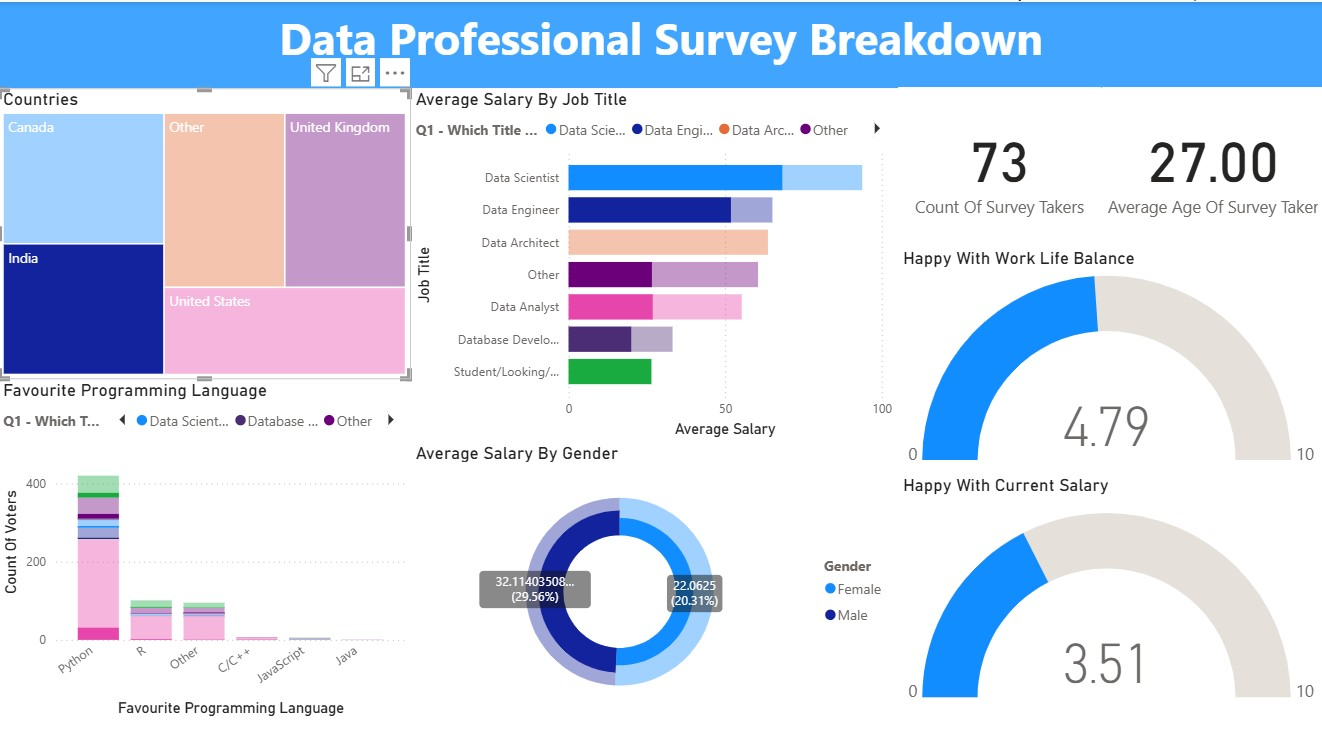

Layout of this report page (visuals, bound fields, positions):
{"tool":"powerbi","page":{"name":"Page 1","canvas":[1280,720],"ordinal":0},"visuals":[{"type":"textbox","box":[0,0,1280,82.9],"z":0},{"type":"card","fields":{"Values":["Count(Data Professional Survey.Unique ID)"]},"box":[868.6,82.3,196.2,153.7],"z":1000},{"type":"card","fields":{"Values":["Avg(Data Professional Survey.Q10 - Current Age)"]},"box":[1064.8,82.3,215.4,153.7],"z":2000},{"type":"barChart","title":"Average Salary By Job Title","fields":{"Y":["Avg(Data Professional Survey.Average Salary)"],"Category":["Data Professional Survey.Q1 - Which Title Best Fits your Current Role?.1"],"Series":["Data Professional Survey.Q1 - Which Title Best Fits your Current Role?.1"]},"box":[398.6,82.9,470,341.4],"z":3000},{"type":"columnChart","title":"Favourite Programming Language","fields":{"Category":["Data Professional Survey.Q5 - Favorite Programming Language.1"],"Y":["CountNonNull(Data Professional Survey.Unique ID)"],"Series":["Data Professional Survey.Q1 - Which Title Best Fits your Current Role?.1"]},"box":[0,364.3,398.6,330],"z":4000},{"type":"treemap","title":"Countries","fields":{"Group":["Data Professional Survey.Q11 - Which Country do you live in?.1"],"Values":["Count(Data Professional Survey.Q11 - Which Country do you live in?.1)"]},"box":[0,82.9,398.6,281.4],"z":5000},{"type":"gauge","title":"Happy With  Current Salary","fields":{"Y":["Avg(Data Professional Survey.Q6 - How Happy are you in your Current Position with the following? (Salary))"],"MinValue":["Min(Data Professional Survey.Q6 - How Happy are you in your Current Position with the following? (Salary))1"],"MaxValue":["Max(Data Professional Survey.Q6 - How Happy are you in your Current Position with the following? (Salary))2"]},"box":[868.6,455.7,411.4,238.6],"z":5001},{"type":"gauge","title":"Happy With Work Life Balance","fields":{"Y":["Avg(Data Professional Survey.Q6 - How Happy are you in your Current Position with the following? (Work/Life Balance))"],"MinValue":["Min(Data Professional Survey.Q6 - How Happy are you in your Current Position with the following? (Work/Life Balance))1"],"MaxValue":["Max(Data Professional Survey.Q6 - How Happy are you in your Current Position with the following? (Work/Life Balance))2"]},"box":[868.6,236,411.7,219.6],"z":5002},{"type":"donutChart","title":"Average Salary By Gender","fields":{"Category":["Data Professional Survey.Q9 - Male/Female?"],"Y":["Avg(Data Professional Survey.Average Salary)"]},"box":[398.6,424.3,470,270],"z":5003}]}

Visuals, with their boxes in screenshot pixels (x1, y1, x2, y2), scaled from the page's 1280x720 canvas onto the 1322x731 screenshot:
textbox: box(0, 0, 1321, 84)
card - Count(Data Professional Survey.Unique ID): box(897, 84, 1100, 240)
card - Avg(Data Professional Survey.Q10 - Current Age): box(1100, 84, 1321, 240)
"Average Salary By Job Title" barChart: box(412, 84, 897, 431)
"Favourite Programming Language" columnChart: box(0, 370, 412, 705)
"Countries" treemap: box(0, 84, 412, 370)
"Happy With  Current Salary" gauge: box(897, 463, 1321, 705)
"Happy With Work Life Balance" gauge: box(897, 240, 1321, 463)
"Average Salary By Gender" donutChart: box(412, 431, 897, 705)
